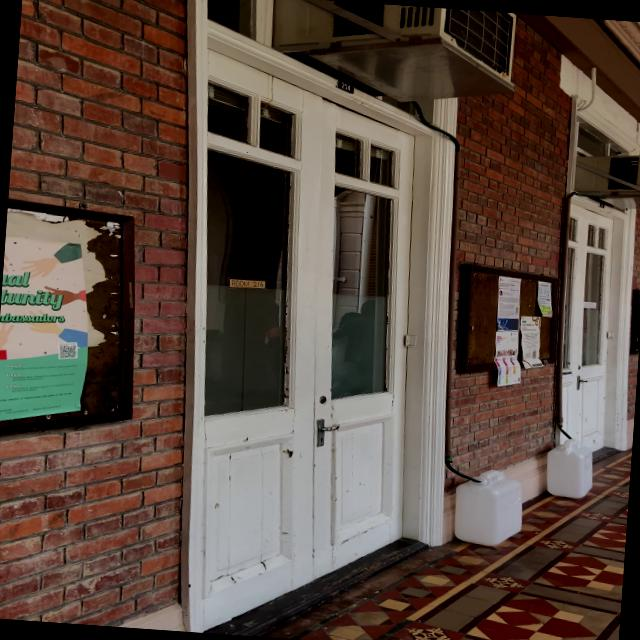room214: (334, 78, 356, 94)
room214Window: (222, 274, 270, 290)
